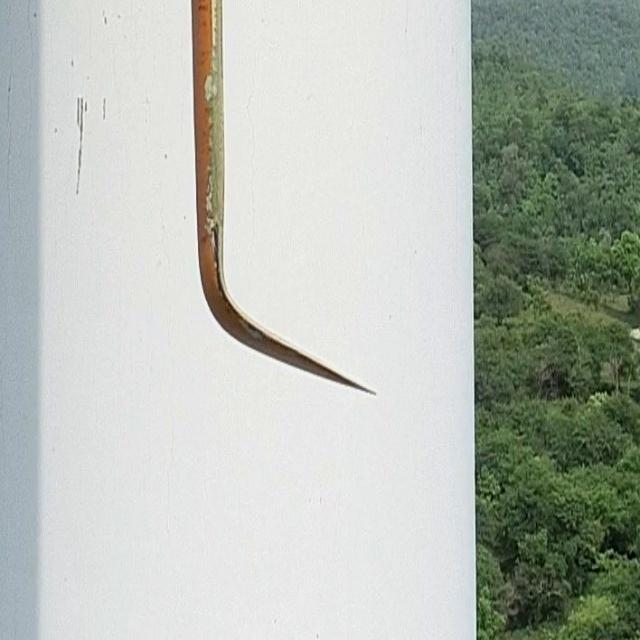EROSION: (203, 10, 224, 292), (226, 296, 284, 345)
